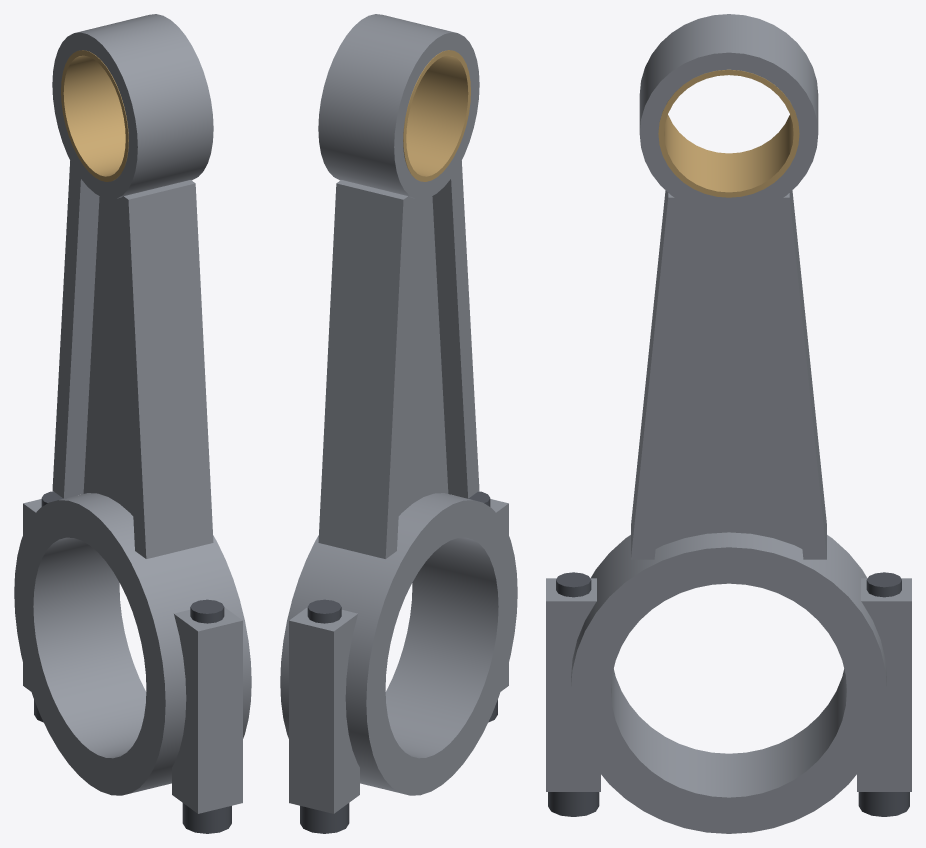
File: rot_conrod_c1_stock.glb
The picture shows the model from 3 angles, left to right: view 1: azimuth 30°, elevation 25°; view 2: azimuth 150°, elevation 25°; view 3: azimuth 270°, elevation 25°; orthographic projection. The views are drawn at different scales.
Visible parts, largest first — view 1: rot_conrod_c1_stock, rot_conrod_smallend_c1_stock; view 2: rot_conrod_c1_stock, rot_conrod_smallend_c1_stock; view 3: rot_conrod_c1_stock, rot_conrod_smallend_c1_stock.
Boxes of the visible parts, <box> form: rot_conrod_c1_stock: <box>14,14,251,833</box>; rot_conrod_smallend_c1_stock: <box>61,50,128,181</box>; rot_conrod_c1_stock: <box>280,14,517,833</box>; rot_conrod_smallend_c1_stock: <box>403,50,470,181</box>; rot_conrod_c1_stock: <box>546,14,911,833</box>; rot_conrod_smallend_c1_stock: <box>658,69,799,197</box>.
Size of the model in its own units: 0.0277 by 0.2289 by 0.0975.
